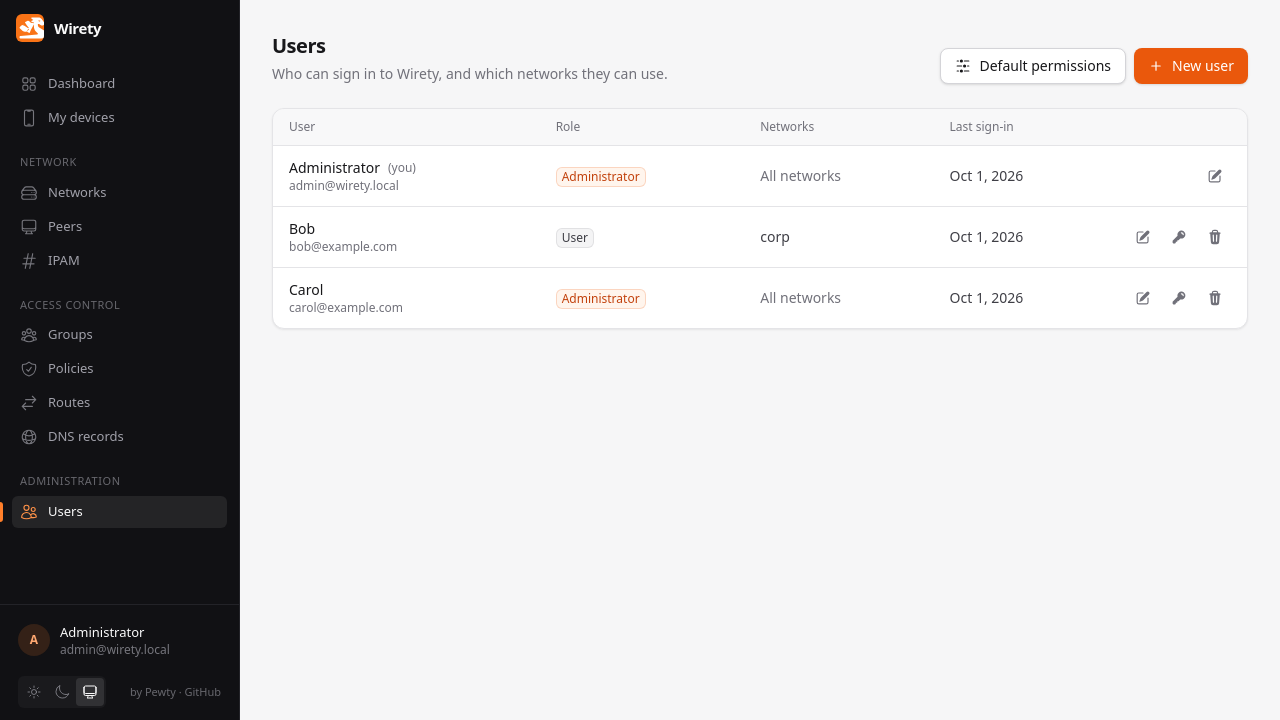
Users › new user › creates an administrator without networks
The width and height of the screenshot is (1280, 720).
Click the button "New user".
click(1191, 66)  # box [1134, 48, 1248, 84]
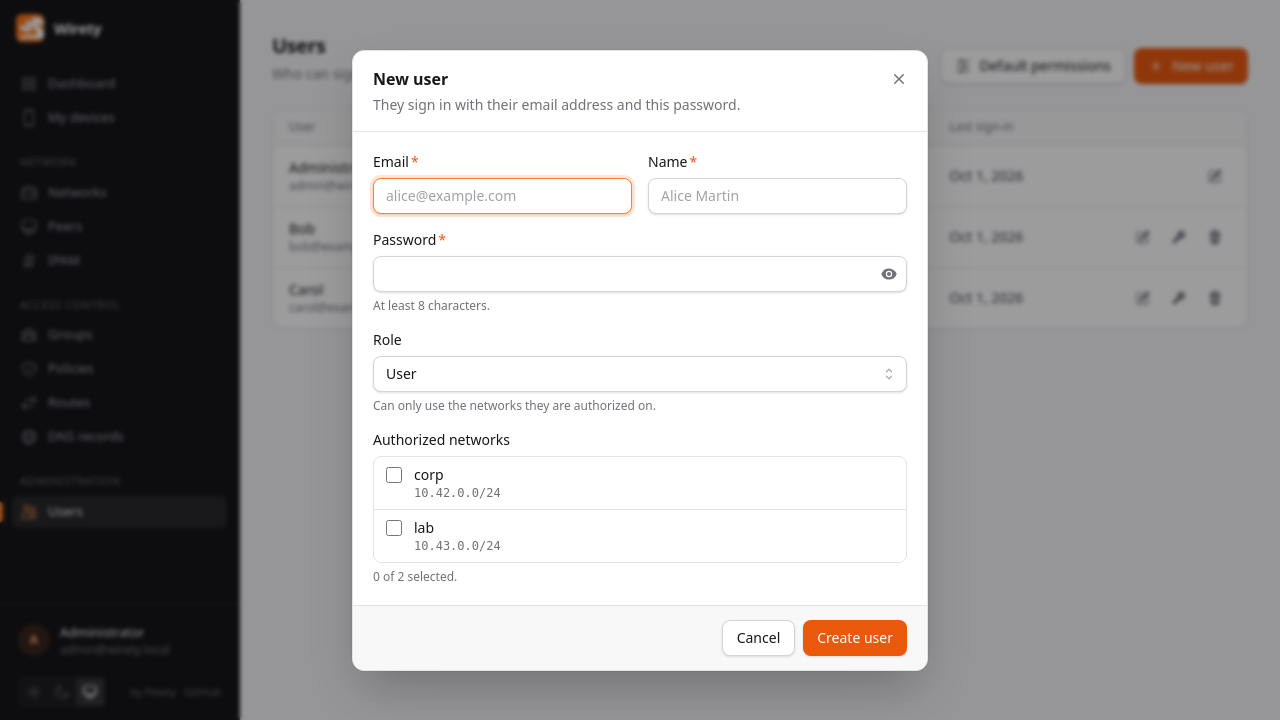
Type "root@example.com" into the field labelled "Email*".
click(502, 196); type("root@example.com")  # box [373, 178, 632, 214]
Type "Root" into the field labelled "Name*".
click(778, 196); type("Root")  # box [648, 178, 907, 214]
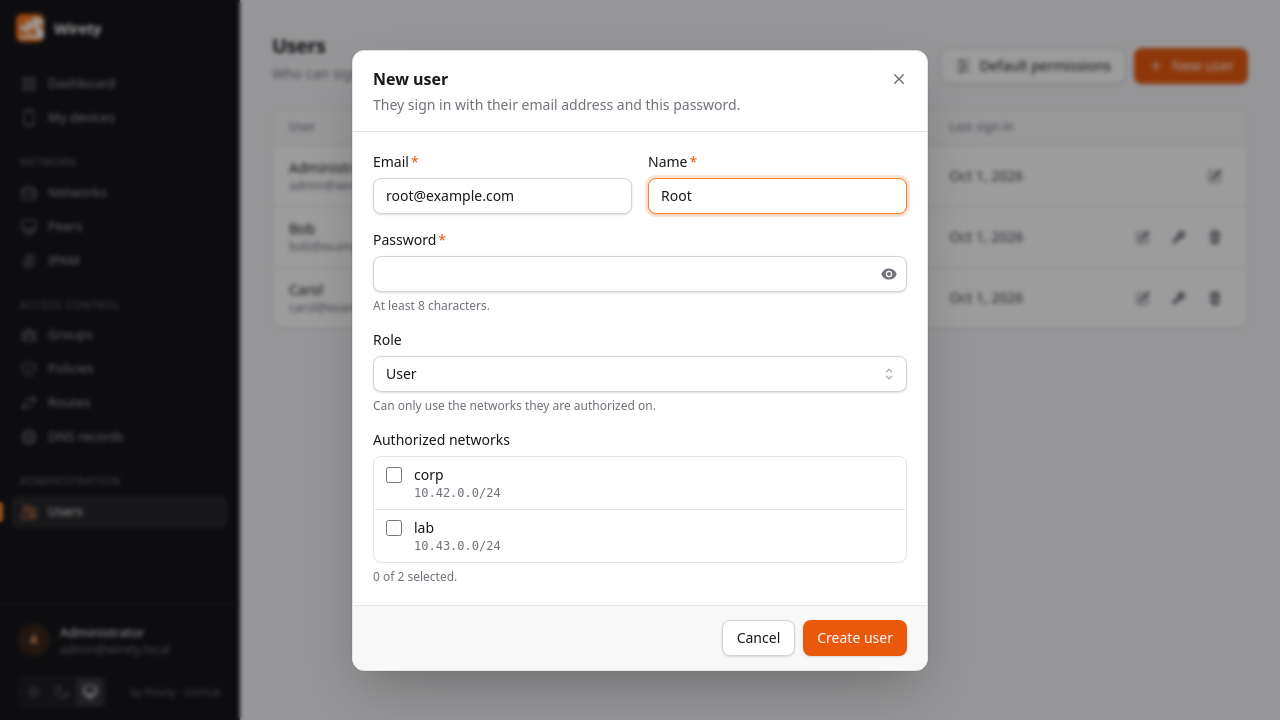
Type "long-enough" into the password field labelled "Password*".
click(640, 274); type("long-enough")  # box [373, 256, 907, 292]
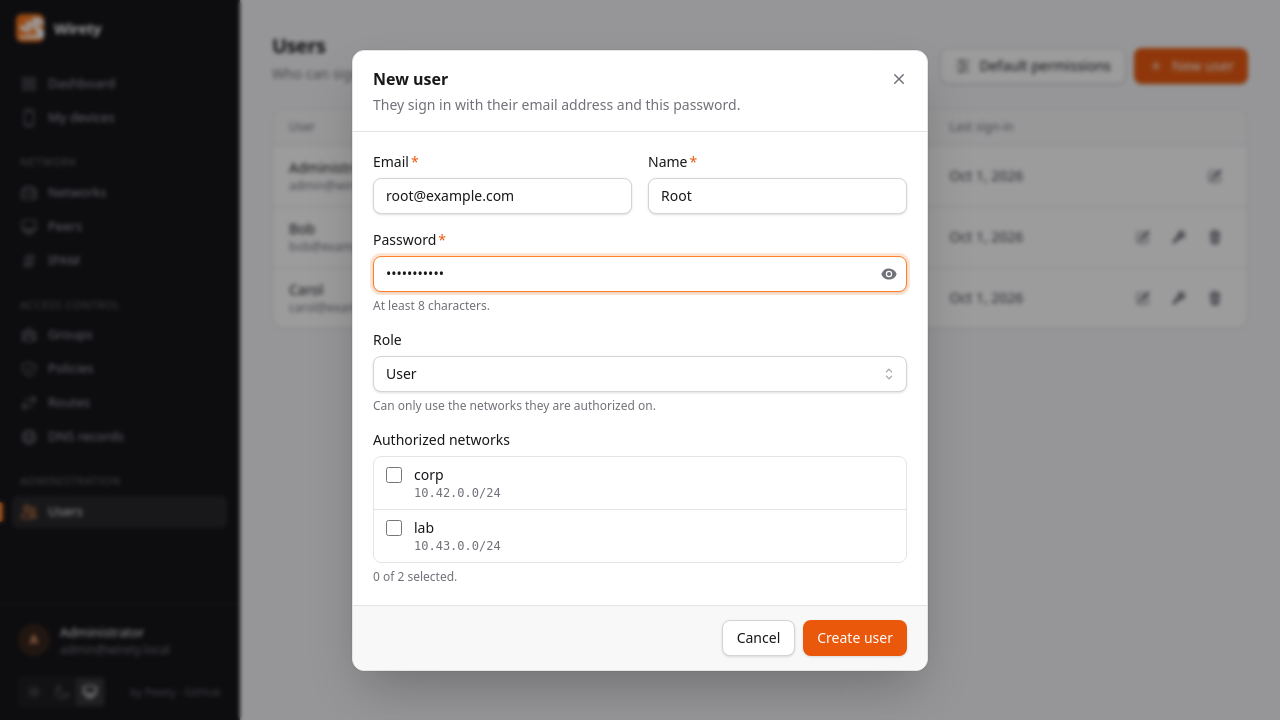
# Networks checked before switching to administrator are not sent.
Click the checkbox labelled "lab".
click(394, 528)  # box [386, 520, 402, 536]
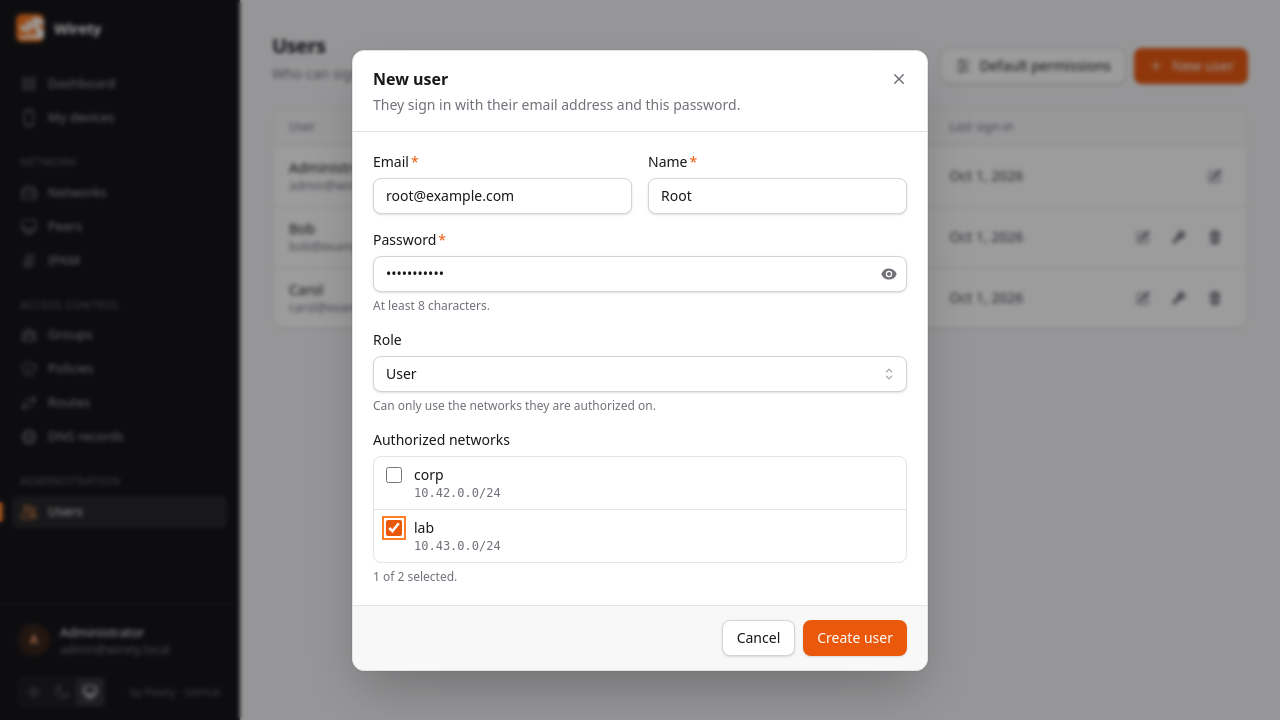
Select "Administrator" in the dropdown labelled "Role" at {"x": 640, "y": 374}, box [373, 356, 907, 392]
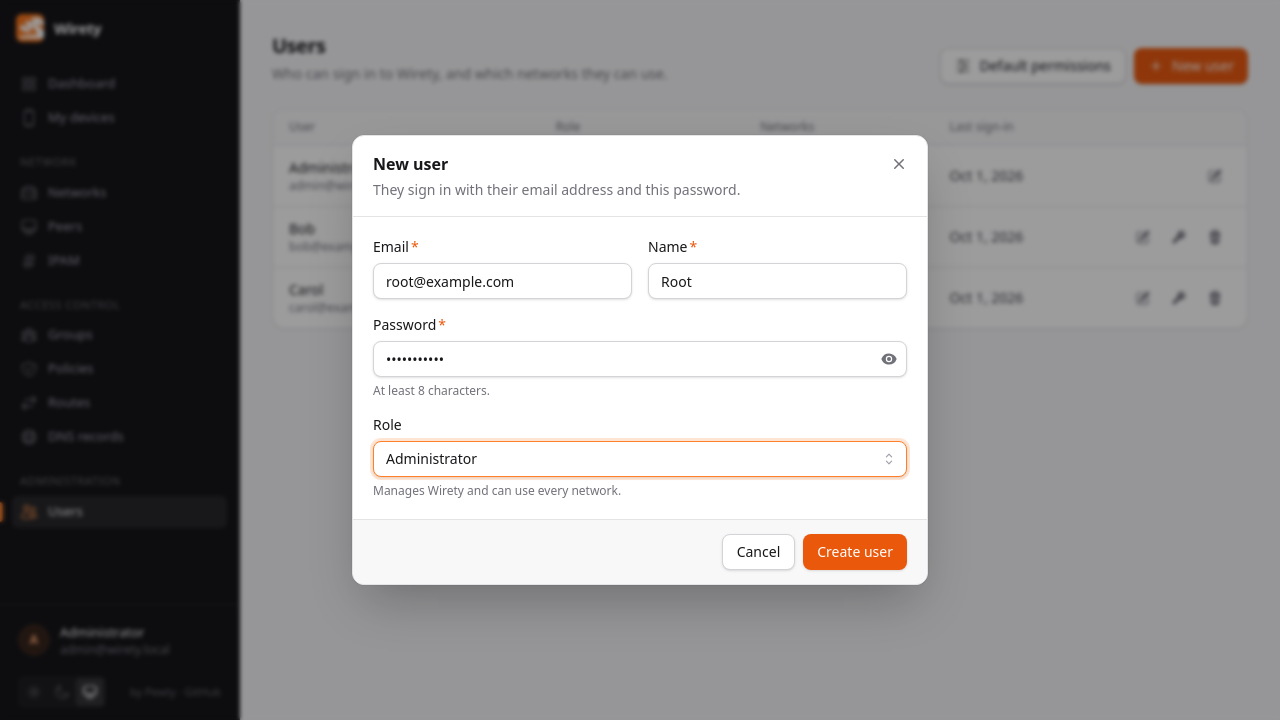
Expected: the text "Authorized networks" is gone
Click the button "Create user".
click(855, 552)  # box [803, 534, 907, 570]
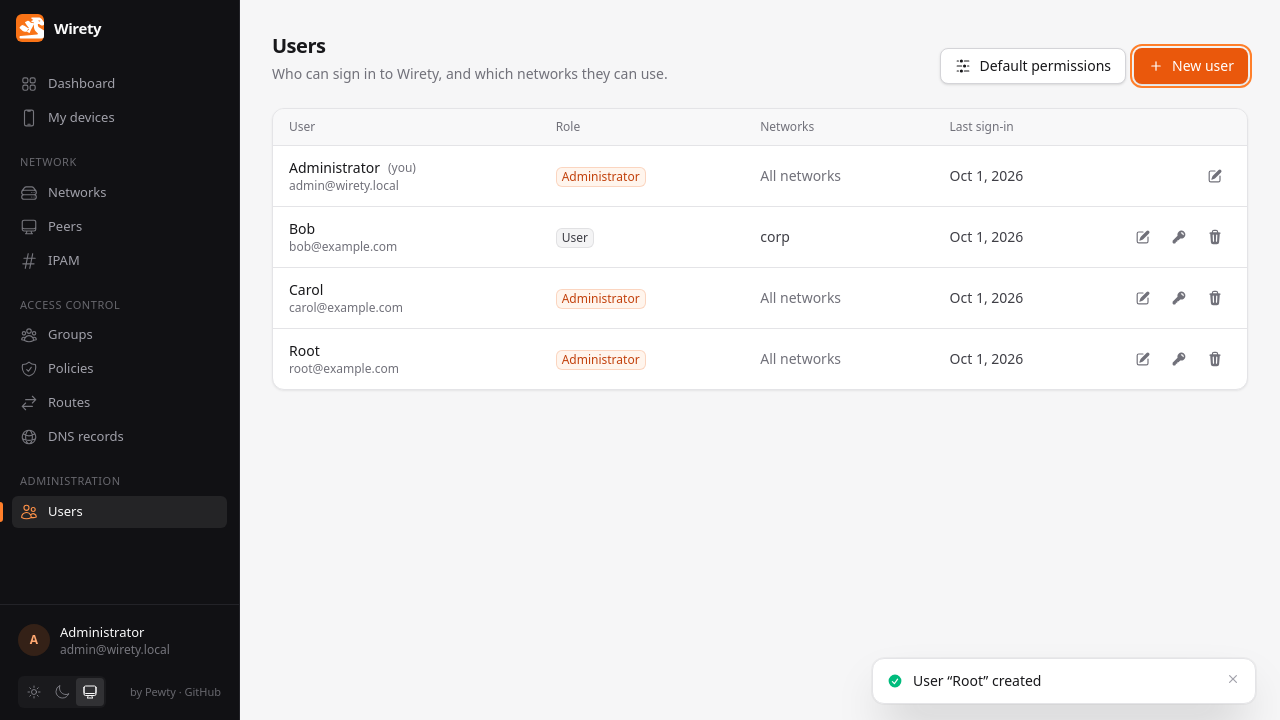
Expected: the text "User “Root” created" is shown, [913, 671, 1042, 690]
